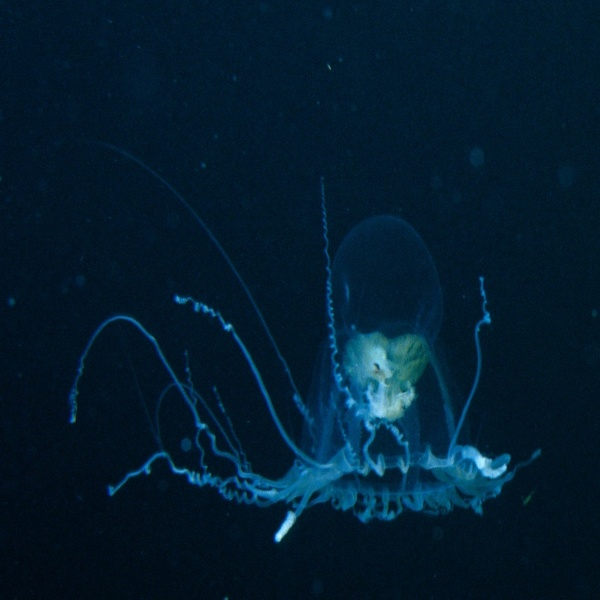Jellyfish: (67, 139, 541, 545)
